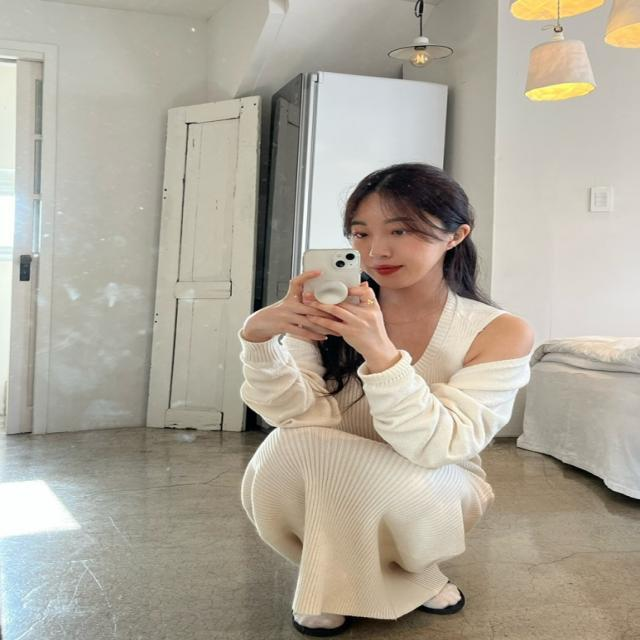phone: (303, 248, 362, 334)
